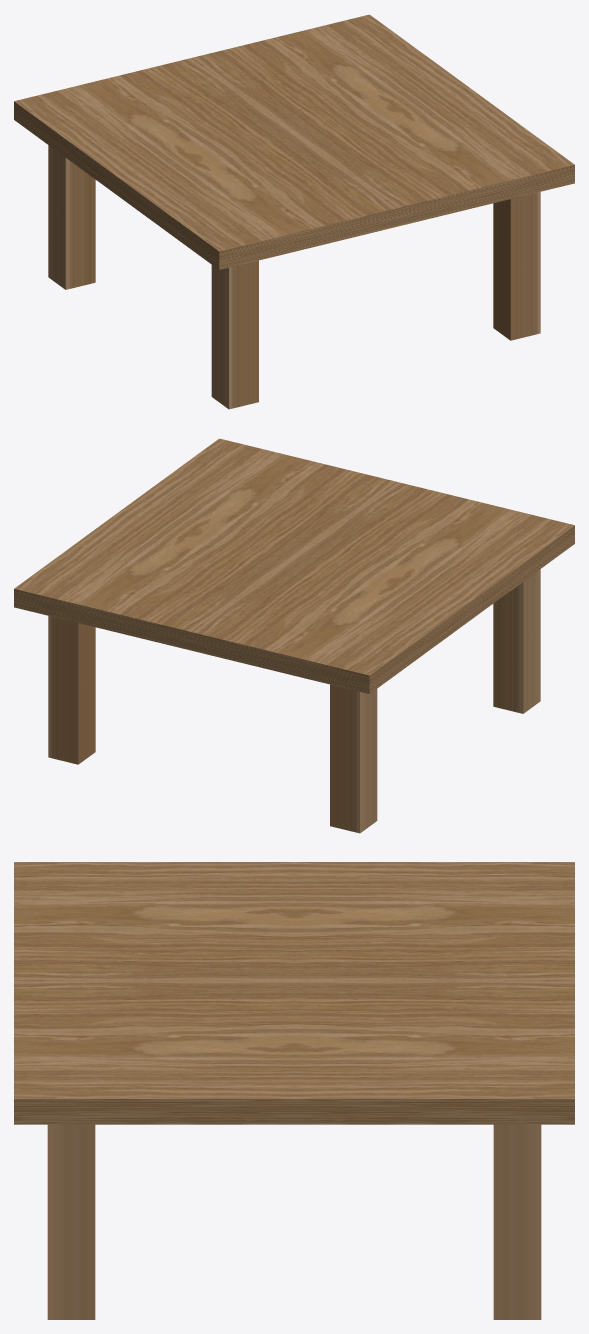
Rendered from meja.glb.
3 renders of one model, top to bottom at view 1: azimuth 30°, elevation 25°; view 2: azimuth 150°, elevation 25°; view 3: azimuth 270°, elevation 25°, orthographic. The views are drawn at different scales.
Visible parts, largest first — view 1: Cube; view 2: Cube; view 3: Cube.
Part boxes in pixels (<box>): Cube: <box>14,14,574,409</box>; Cube: <box>14,438,574,833</box>; Cube: <box>14,862,574,1319</box>.
Bounding box in the file's own units: 1 × 0.4631 × 1.
Materials: 1 (1 with a texture image).
